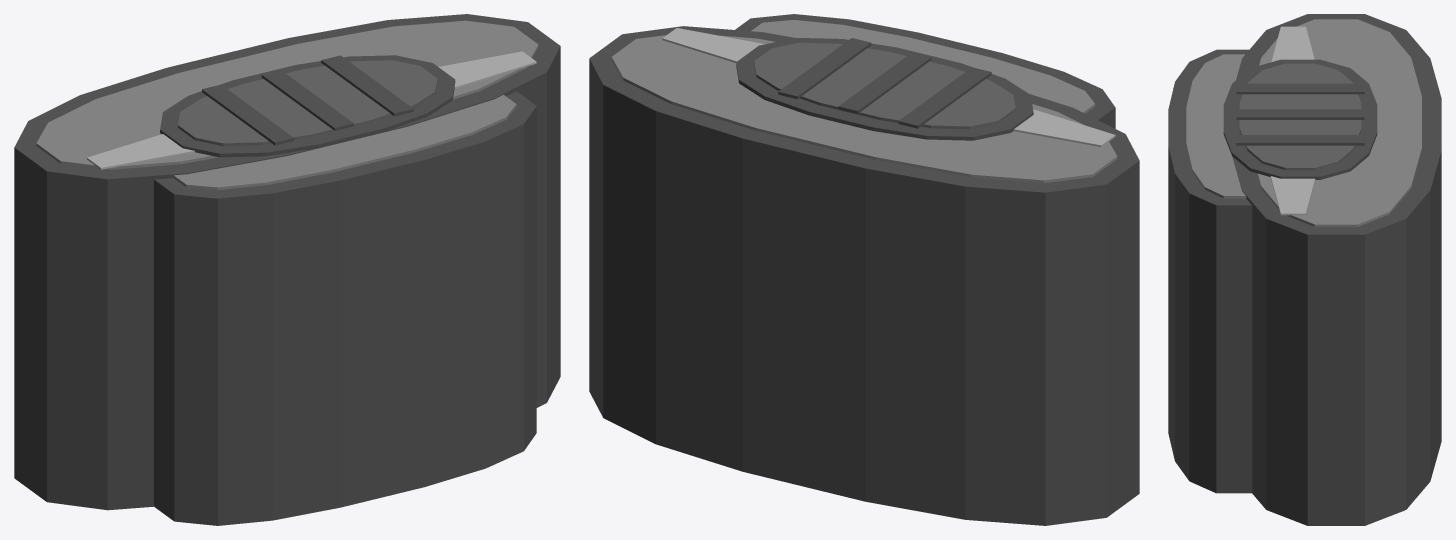
File: bag_fornalha_apagada.fbx
The picture shows the model from 3 angles, left to right: view 1: azimuth 30°, elevation 25°; view 2: azimuth 150°, elevation 25°; view 3: azimuth 270°, elevation 25°; orthographic projection. The views are drawn at different scales.
Parts seen in each view (by area): view 1: bag_fornalha_apagada_mochila; view 2: bag_fornalha_apagada_mochila; view 3: bag_fornalha_apagada_mochila.
Boxes of the visible parts, x1,y1,x2,y2 form: bag_fornalha_apagada_mochila: [14, 14, 560, 525]; bag_fornalha_apagada_mochila: [589, 14, 1139, 525]; bag_fornalha_apagada_mochila: [1168, 14, 1441, 525].
Bounding box in the file's own units: 2.92 × 1.87 × 1.53.
1 material, 1 textured.
